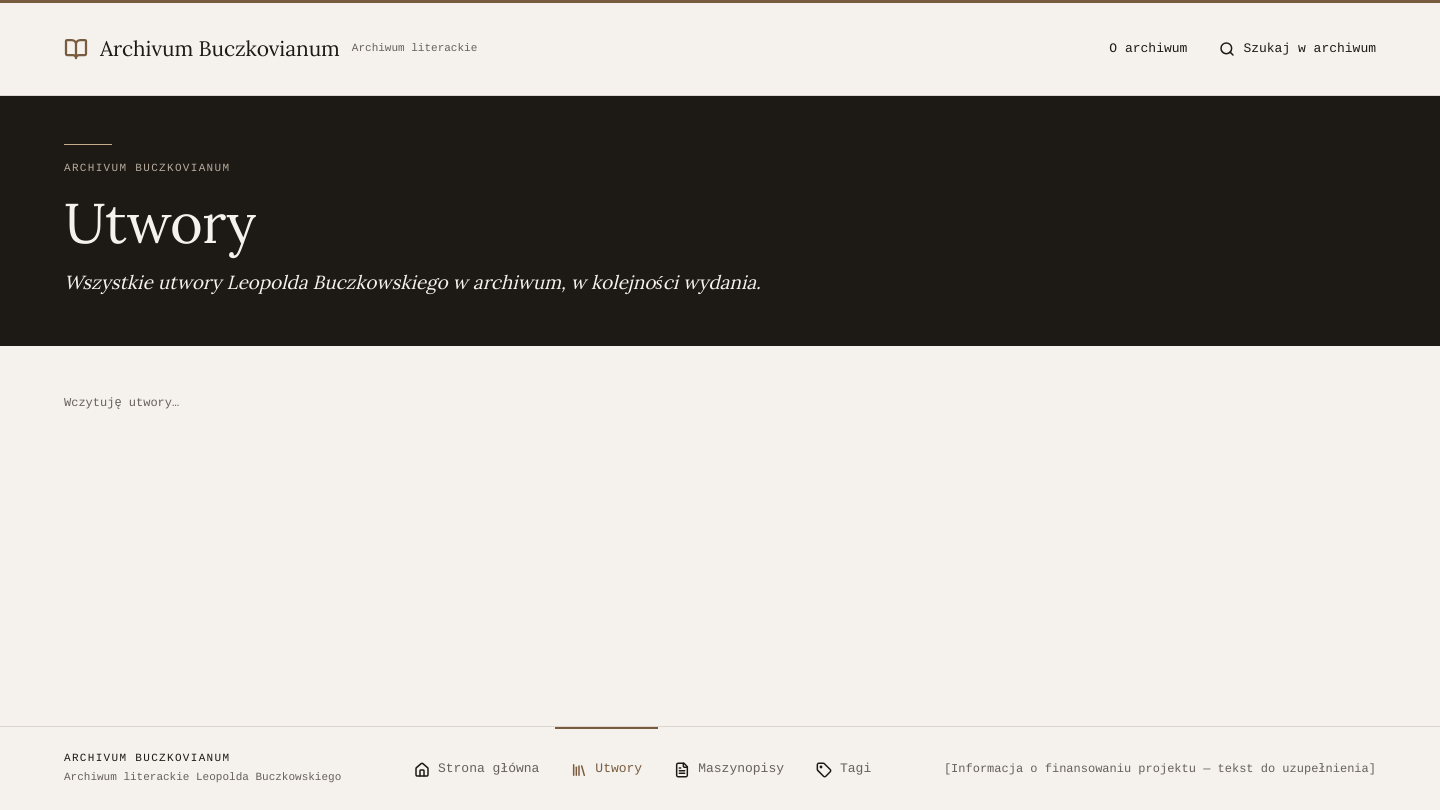
Test case: TagsPage › US-RA-20 AC1: 'Tagi' in the main navigation opens the list and is the active item
Step 1. Click the link "Tagi" → (844, 769), box [816, 761, 871, 778]
(page scrolled)
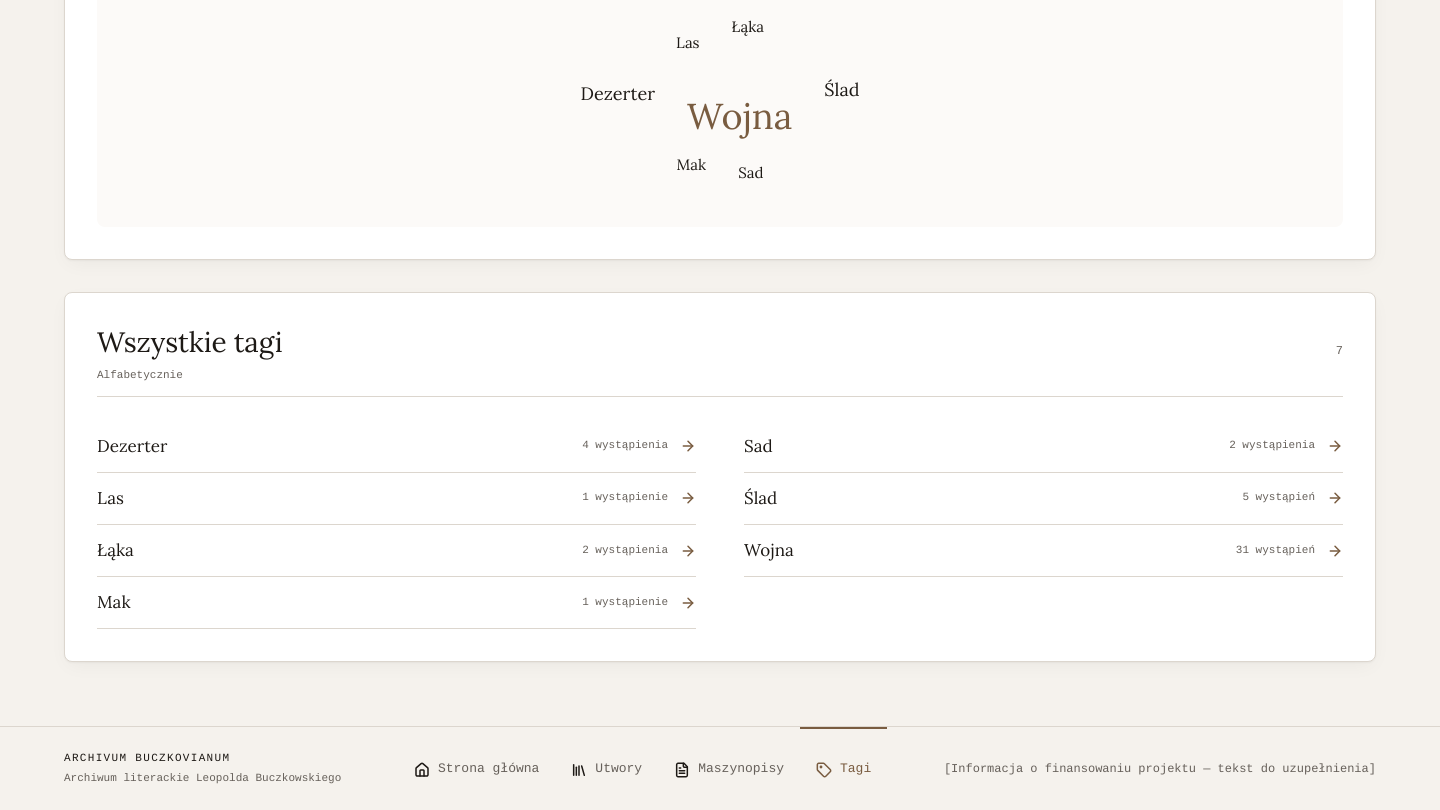
Result: the heading "Wszystkie tagi" is shown at [97, 325, 282, 360]
